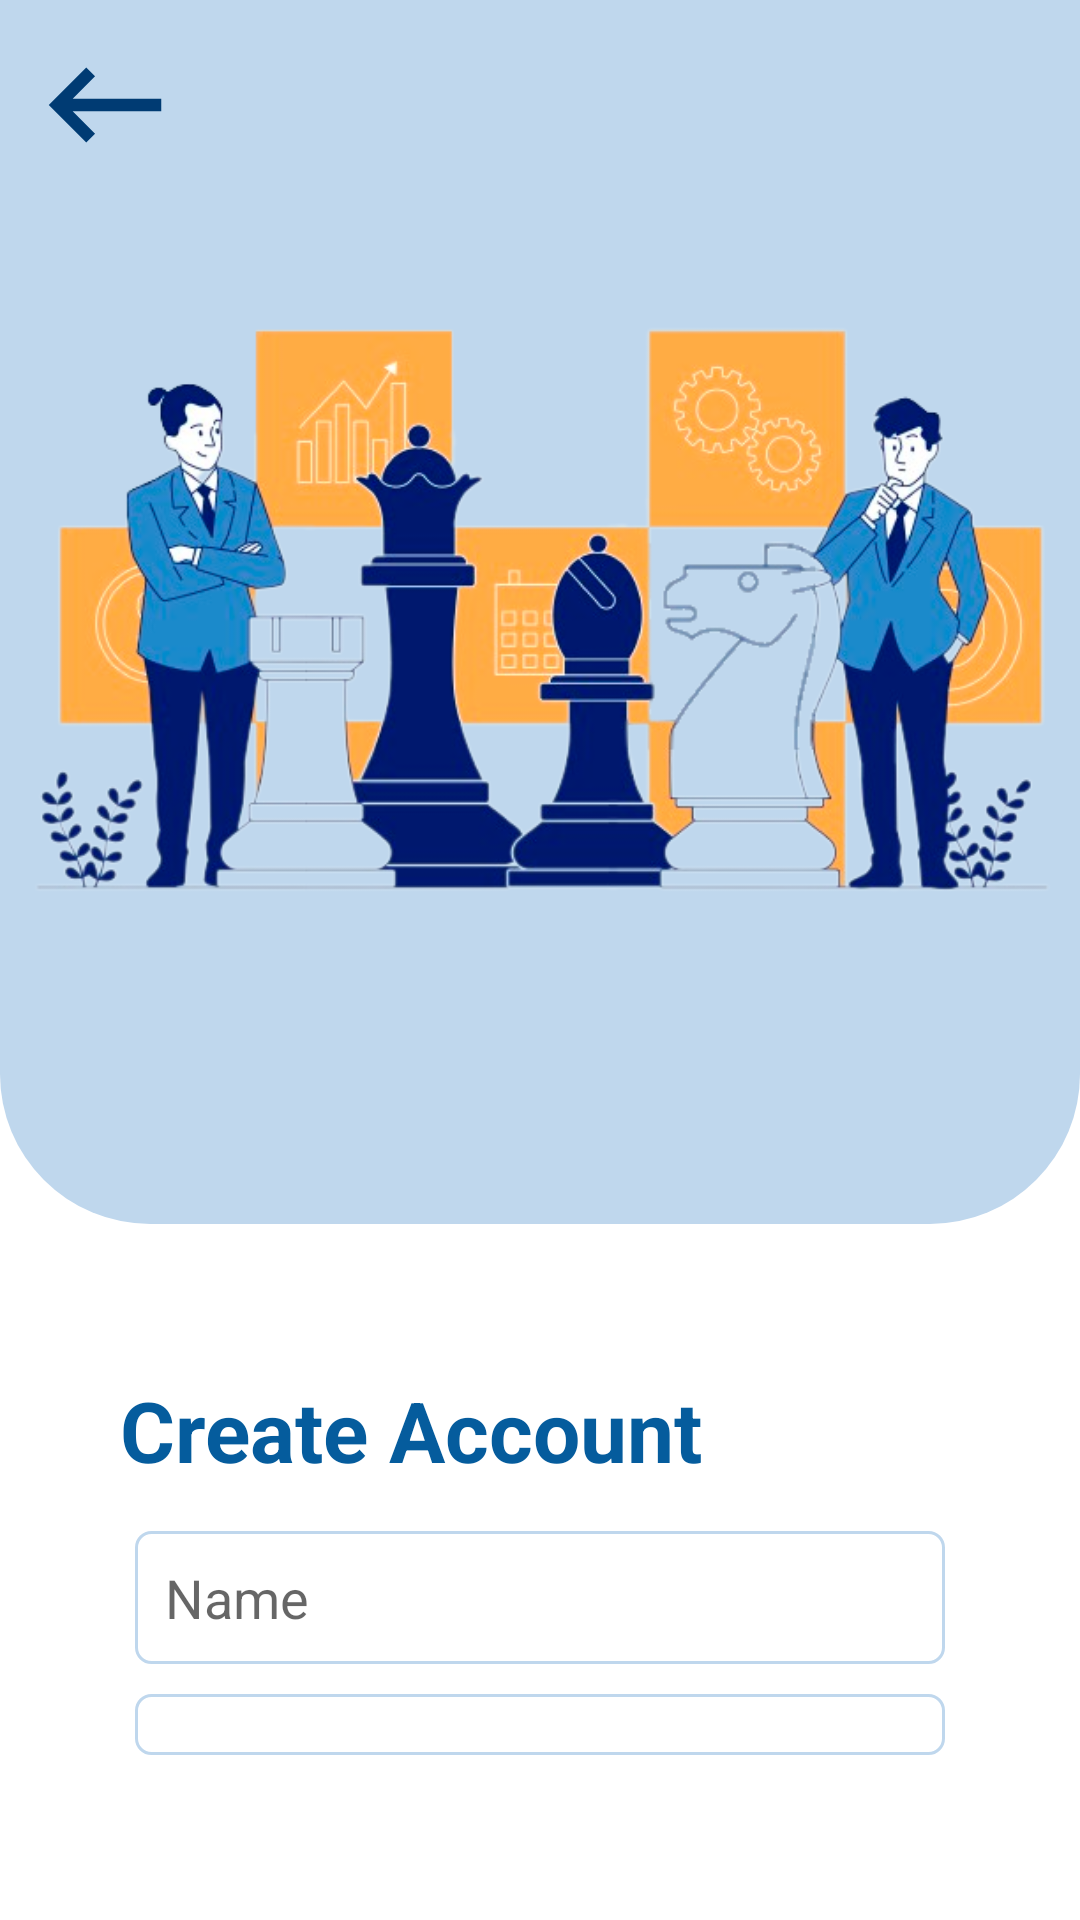

Icons on this 1080w x 1920h Android screen, each with the point to tap as (x=x, y=y):
back: (x=105, y=105)
